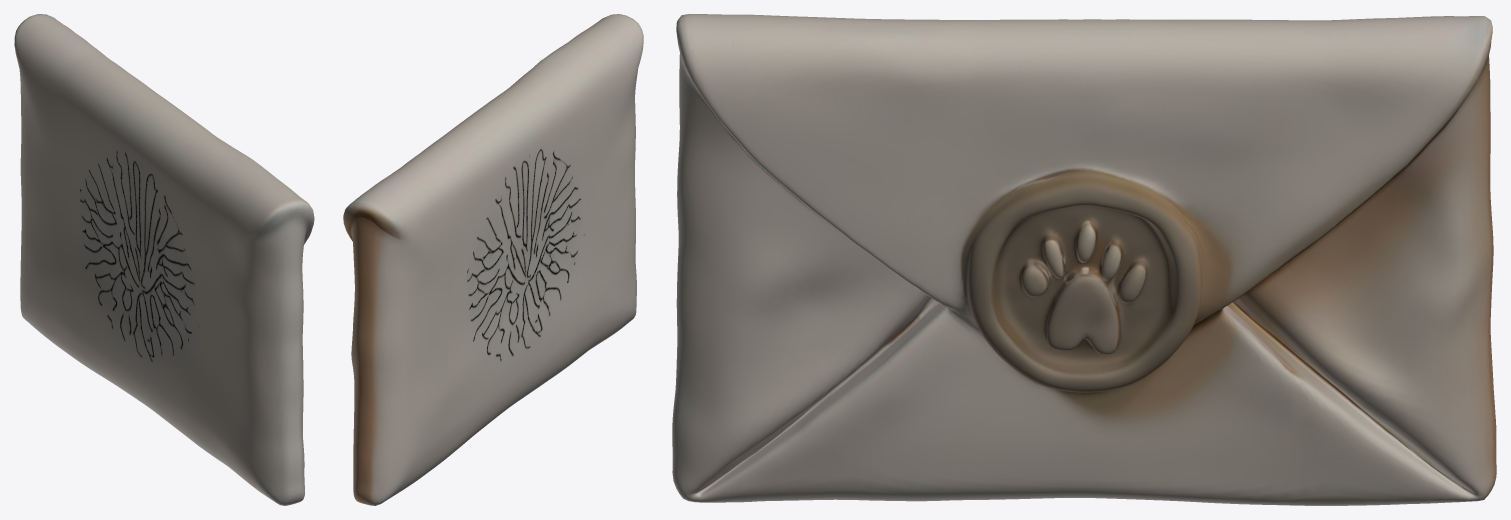
Rendered from tripo_convert_282e8dcf-25a6-4718-838e-de1952296755.fbx.
3 renders of one model, left to right at view 1: azimuth 30°, elevation 25°; view 2: azimuth 150°, elevation 25°; view 3: azimuth 270°, elevation 25°, orthographic. The views are drawn at different scales.
Parts seen in each view (by area): view 1: tripo_node_282e8dcf; view 2: tripo_node_282e8dcf; view 3: tripo_node_282e8dcf.
Part boxes in pixels (left/top/right/bottom): tripo_node_282e8dcf: left=14, top=14, right=314, bottom=505; tripo_node_282e8dcf: left=343, top=14, right=643, bottom=505; tripo_node_282e8dcf: left=672, top=14, right=1496, bottom=505.
Bounding box in the file's own units: 16.8 × 64.16 × 99.98.
Materials: 1 (1 with a texture image).
